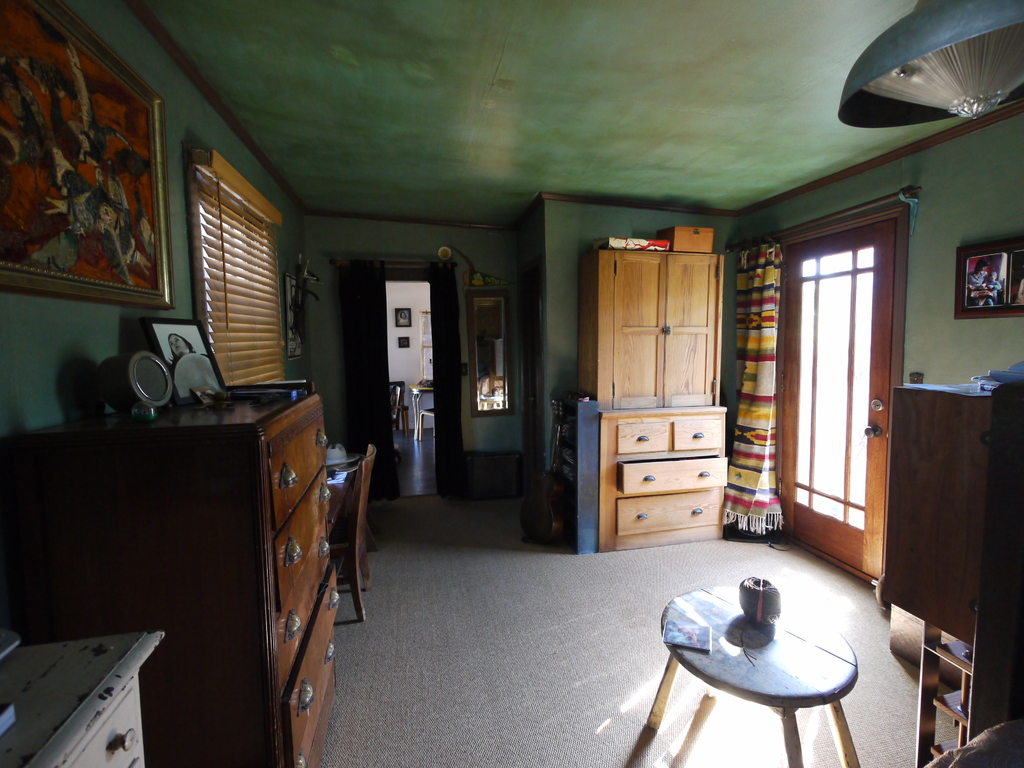cabinet door: (279, 603, 347, 730), (270, 490, 338, 596), (618, 259, 663, 404), (670, 269, 714, 403), (269, 420, 331, 503), (623, 459, 728, 489), (620, 496, 716, 525), (670, 415, 722, 449), (617, 423, 673, 452)
door: (792, 250, 890, 554), (794, 252, 882, 560)
handle: (105, 727, 145, 757), (278, 459, 302, 494), (297, 673, 318, 711), (284, 609, 306, 642), (290, 537, 307, 570), (308, 423, 328, 450), (318, 478, 332, 507), (638, 467, 658, 487), (328, 586, 343, 610), (318, 537, 334, 559), (691, 495, 706, 517), (695, 464, 713, 482), (865, 425, 879, 445), (690, 428, 707, 444), (637, 428, 651, 446), (635, 507, 647, 523)
